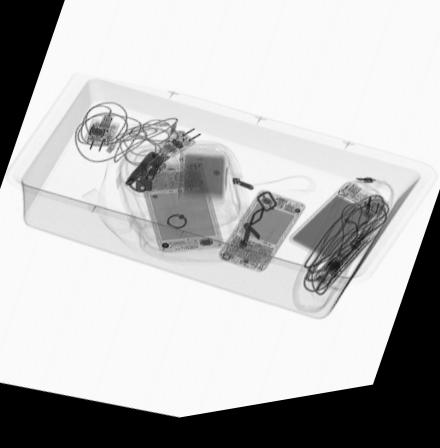Powerbank: (288, 193, 389, 270)
